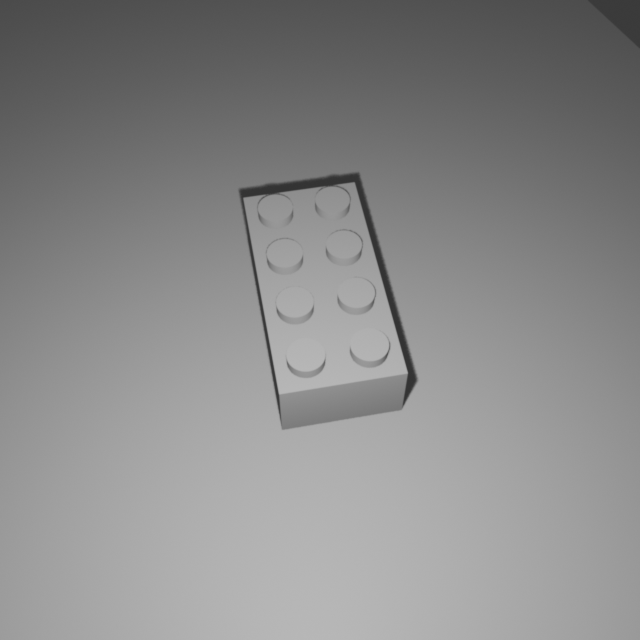lego_2x4: (242, 175, 409, 430)
